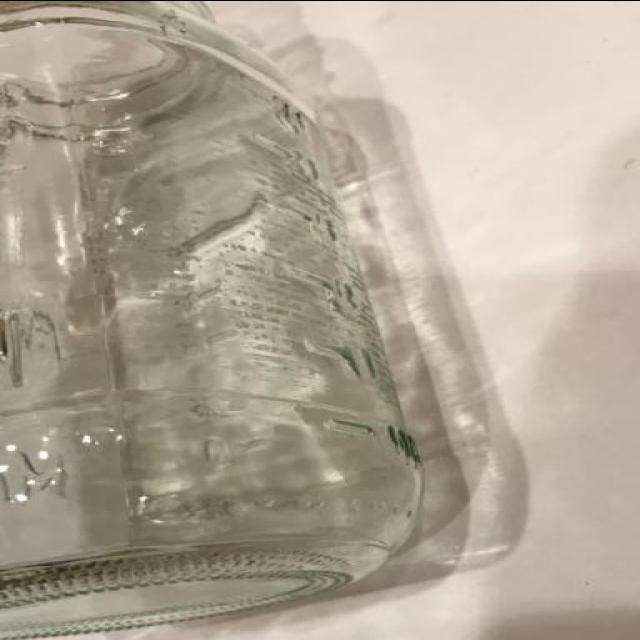glass: (0, 0, 422, 635)
